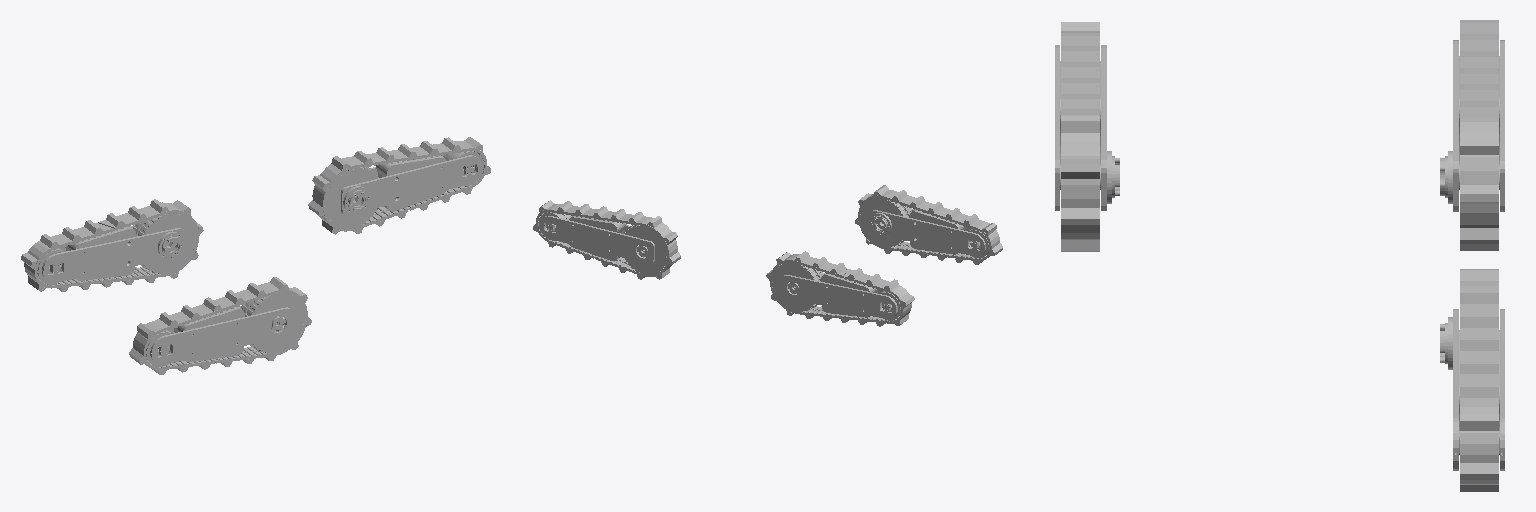
The robot description file, URDF, robot "osp_teleop":
<?xml version="1.0" encoding="utf-8"?>
<robot
  name="osp_teleop">
  <link
    name="base_link">
    <inertial>
      <origin
        xyz="-3.6902383357842E-06 0.00013530319817408 0.00484123488485292"
        rpy="0 0 0" />
      <mass
        value="15.8910309592199" />
      <inertia
        ixx="0.0613158294960087"
        ixy="1.80957428706809E-07"
        ixz="-6.43751720929848E-07"
        iyy="0.181610840835921"
        iyz="-4.36641485740763E-08"
        izz="0.181013569345721" />
    </inertial>
    <visual>
      <origin
        xyz="0 0 0"
        rpy="0 0 0" />
      <geometry>
        <mesh
          filename="package://osp_teleop/meshes/base_link.STL" />
      </geometry>
      <material
        name="">
        <color
          rgba="0.898039215686275 0.917647058823529 0.929411764705882 1" />
      </material>
    </visual>
    <collision>
      <origin
        xyz="0 0 0"
        rpy="0 0 0" />
      <geometry>
        <mesh
          filename="package://osp_teleop/meshes/base_link.STL" />
      </geometry>
    </collision>
  </link>
  <link
    name="flipper_1">
    <inertial>
      <origin
        xyz="-0.10322 3.5243E-05 0.040967"
        rpy="0 0 0" />
      <mass
        value="2.5754" />
      <inertia
        ixx="0.0025705"
        ixy="1.0125E-06"
        ixz="-7.2155E-08"
        iyy="0.012301"
        iyz="4.8037E-09"
        izz="0.014521" />
    </inertial>
    <visual>
      <origin
        xyz="0 0 0"
        rpy="0 0 0" />
      <geometry>
        <mesh
          filename="package://osp_teleop/meshes/flipper_1.STL" />
      </geometry>
      <material
        name="">
        <color
          rgba="0.75294 0.75294 0.75294 1" />
      </material>
    </visual>
    <collision>
      <origin
        xyz="0 0 0"
        rpy="0 0 0" />
      <geometry>
        <mesh
          filename="package://osp_teleop/meshes/flipper_1.STL" />
      </geometry>
    </collision>
  </link>
  <joint
    name="f1"
    type="continuous">
    <origin
      xyz="-0.208 -0.1691 0"
      rpy="1.5708 0.010345 0" />
    <parent
      link="base_link" />
    <child
      link="flipper_1" />
    <axis
      xyz="0 0 -1" />
  </joint>
  <link
    name="flipper_2">
    <inertial>
      <origin
        xyz="-0.10322 -3.5243E-05 -0.040967"
        rpy="0 0 0" />
      <mass
        value="2.5754" />
      <inertia
        ixx="0.0025705"
        ixy="-1.0125E-06"
        ixz="7.2155E-08"
        iyy="0.012301"
        iyz="4.8037E-09"
        izz="0.014521" />
    </inertial>
    <visual>
      <origin
        xyz="0 0 0"
        rpy="0 0 0" />
      <geometry>
        <mesh
          filename="package://osp_teleop/meshes/flipper_2.STL" />
      </geometry>
      <material
        name="">
        <color
          rgba="0.75294 0.75294 0.75294 1" />
      </material>
    </visual>
    <collision>
      <origin
        xyz="0 0 0"
        rpy="0 0 0" />
      <geometry>
        <mesh
          filename="package://osp_teleop/meshes/flipper_2.STL" />
      </geometry>
    </collision>
  </link>
  <joint
    name="f2"
    type="continuous">
    <origin
      xyz="-0.208 0.1691 0"
      rpy="1.5708 0.032193 0" />
    <parent
      link="base_link" />
    <child
      link="flipper_2" />
    <axis
      xyz="0 0 1" />
  </joint>
  <link
    name="flipper_3">
    <inertial>
      <origin
        xyz="0.10322 3.5243E-05 -0.040967"
        rpy="0 0 0" />
      <mass
        value="2.5754" />
      <inertia
        ixx="0.0025705"
        ixy="-1.0125E-06"
        ixz="-7.2155E-08"
        iyy="0.012301"
        iyz="-4.8037E-09"
        izz="0.014521" />
    </inertial>
    <visual>
      <origin
        xyz="0 0 0"
        rpy="0 0 0" />
      <geometry>
        <mesh
          filename="package://osp_teleop/meshes/flipper_3.STL" />
      </geometry>
      <material
        name="">
        <color
          rgba="0.75294 0.75294 0.75294 1" />
      </material>
    </visual>
    <collision>
      <origin
        xyz="0 0 0"
        rpy="0 0 0" />
      <geometry>
        <mesh
          filename="package://osp_teleop/meshes/flipper_3.STL" />
      </geometry>
    </collision>
  </link>
  <joint
    name="f3"
    type="continuous">
    <origin
      xyz="0.208 0.1691 0"
      rpy="1.5708 -0.010345 0" />
    <parent
      link="base_link" />
    <child
      link="flipper_3" />
    <axis
      xyz="0 0 1" />
  </joint>
  <link
    name="flipper_4">
    <inertial>
      <origin
        xyz="0 0 0"
        rpy="0 0 0" />
      <mass
        value="0" />
      <inertia
        ixx="0"
        ixy="0"
        ixz="0"
        iyy="0"
        iyz="0"
        izz="0" />
    </inertial>
    <visual>
      <origin
        xyz="0 0 0"
        rpy="0 0 0" />
      <geometry>
        <mesh
          filename="package://osp_teleop/meshes/flipper_4.STL" />
      </geometry>
      <material
        name="">
        <color
          rgba="1 1 1 1" />
      </material>
    </visual>
    <collision>
      <origin
        xyz="0 0 0"
        rpy="0 0 0" />
      <geometry>
        <mesh
          filename="package://osp_teleop/meshes/flipper_4.STL" />
      </geometry>
    </collision>
  </link>
  <joint
    name="f4"
    type="continuous">
    <origin
      xyz="0.207999999999999 -0.169099999999999 0"
      rpy="1.5707963267949 -0.0103448863749507 3.14159265358979" />
    <parent
      link="base_link" />
    <child
      link="flipper_4" />
    <axis
      xyz="0 0 1" />
  </joint>
</robot>

--- What the picture shows (computed from the rendered views, not written in the file) ---
3 views of the same robot in one strip: view 1: azimuth 30°, elevation 25°; view 2: azimuth 150°, elevation 25°; view 3: azimuth 270°, elevation 25° (orthographic).
Robot: osp_teleop — 5 links, 4 joints (4 continuous); root link base_link; default pose: all joints at 0.
Visible links, largest first — view 1: flipper_3, flipper_1, flipper_2; view 2: flipper_3, flipper_1, flipper_2; view 3: flipper_2, flipper_1, flipper_3.
Boxes of the visible links, x1,y1,x2,y2 form: flipper_3: (308, 137, 490, 234); flipper_1: (129, 277, 311, 374); flipper_2: (21, 199, 203, 291); flipper_3: (533, 200, 680, 279); flipper_1: (855, 185, 1002, 264); flipper_2: (766, 251, 914, 326); flipper_2: (1440, 20, 1504, 250); flipper_1: (1055, 22, 1119, 251); flipper_3: (1440, 269, 1504, 491).
Size in the robot's own frame: 1.03 by 0.4762 by 0.159 metres.
Meshes: 5 distinct files referenced, 3 mesh visuals loaded (3 binary STL); not drawn: 2 (reference not matched to a file when rendering).